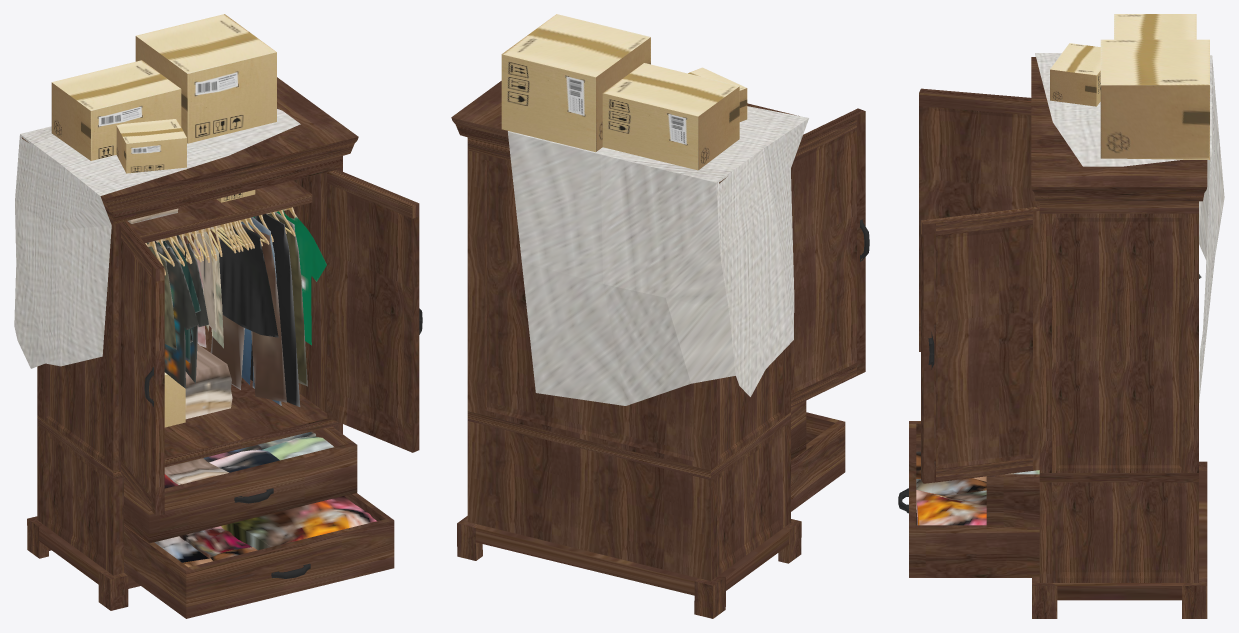
File: low-poly-psx-style-wardrobe-with-clothes-ecd069.glb
The picture shows the model from 3 angles, left to right: view 1: azimuth 30°, elevation 25°; view 2: azimuth 150°, elevation 25°; view 3: azimuth 270°, elevation 25°; orthographic projection. The views are drawn at different scales.
Parts seen in each view (by area): view 1: PropMesh; view 2: PropMesh; view 3: PropMesh.
Boxes of the visible parts, x1,y1,x2,y2 form: PropMesh: (14,14,422,618); PropMesh: (451,14,869,618); PropMesh: (898,14,1224,618).
Size of the model in its own units: 1.35 by 2.2 by 1.27.
8 materials, 6 textured.
